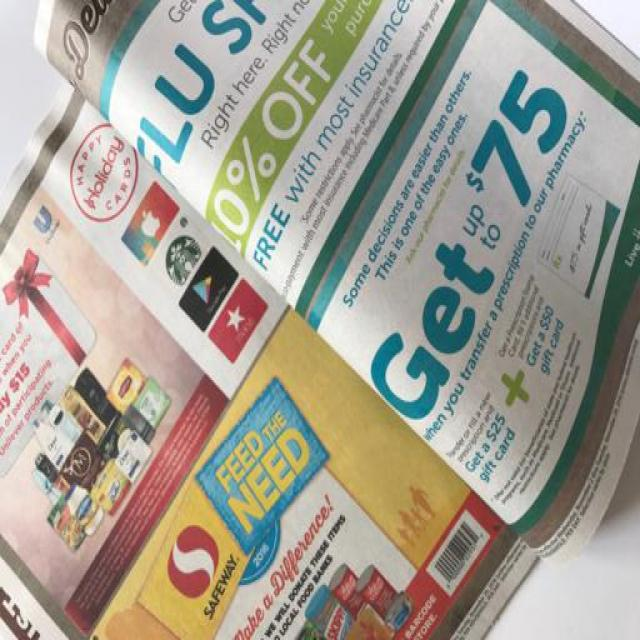paper: (1, 1, 640, 640)
